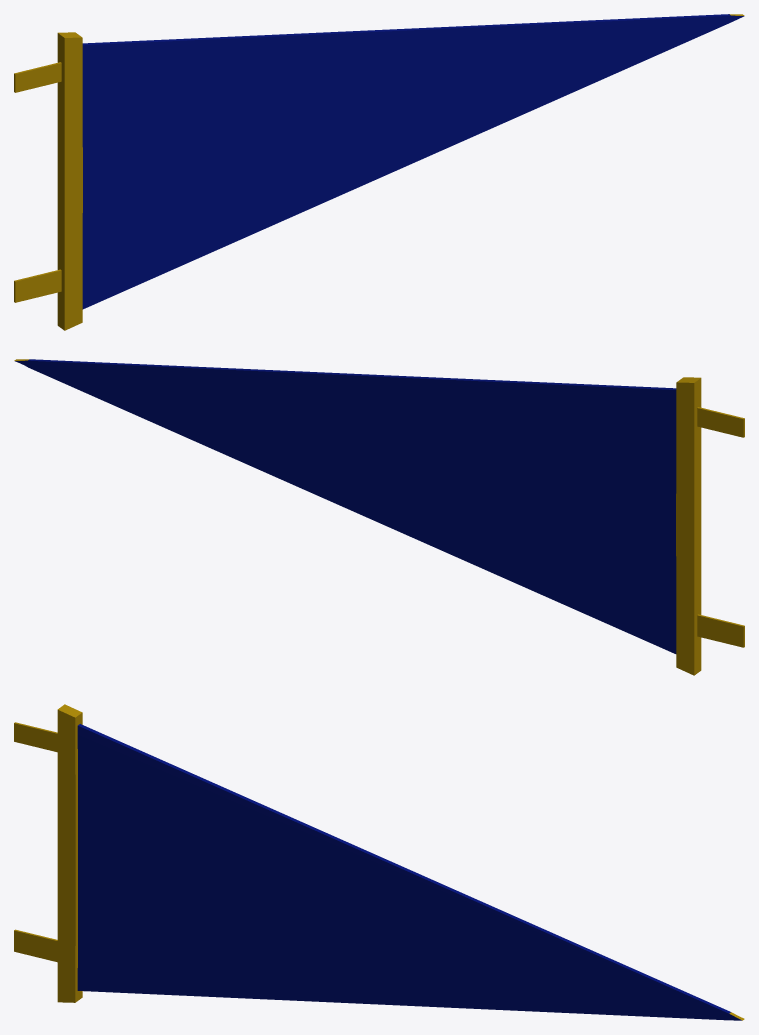
The model's file is Flag.fbx.
3 renders of one model, top to bottom at view 1: azimuth 30°, elevation 25°; view 2: azimuth 150°, elevation 25°; view 3: azimuth 330°, elevation 25°, orthographic.
Visible parts, largest first — view 1: Plane.001; view 2: Plane.001; view 3: Plane.001.
Part boxes in pixels (<box>): Plane.001: <box>14,14,744,330</box>; Plane.001: <box>14,359,744,675</box>; Plane.001: <box>14,704,744,1020</box>.
Bounding box in the file's own units: 351 × 135 × 6.
